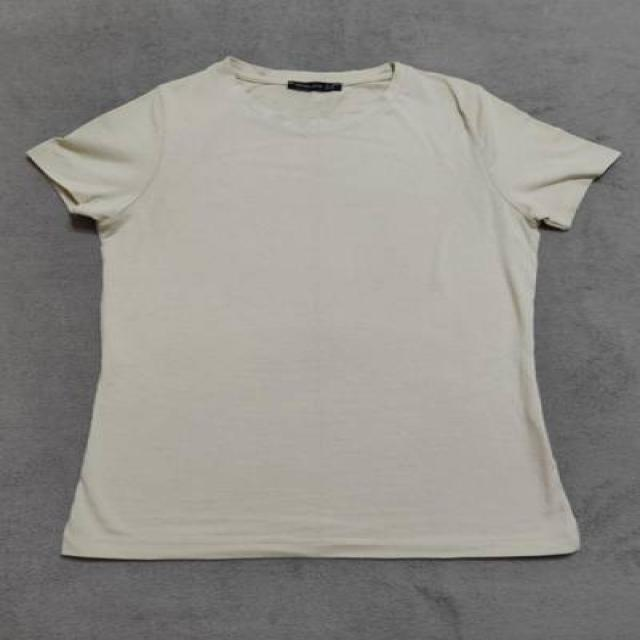shirt: (28, 55, 626, 562)
